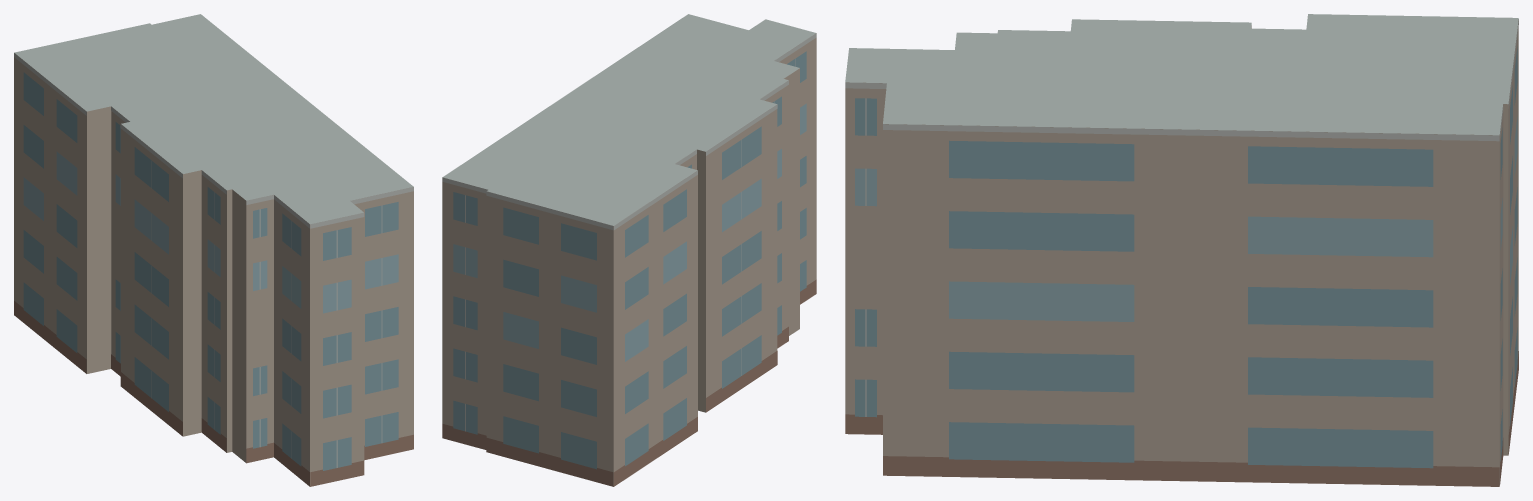
The model's file is survey-upis-32610491.glb.
3 renders of one model, left to right at view 1: azimuth 30°, elevation 25°; view 2: azimuth 150°, elevation 25°; view 3: azimuth 270°, elevation 25°, orthographic. The views are drawn at different scales.
Parts seen in each view (by area): view 1: survey-upis-32610491.tmp; view 2: survey-upis-32610491.tmp; view 3: survey-upis-32610491.tmp.
Part boxes in pixels (x1,y1,x2,y2): survey-upis-32610491.tmp: [14, 14, 413, 486]; survey-upis-32610491.tmp: [442, 14, 816, 486]; survey-upis-32610491.tmp: [845, 14, 1518, 486].
Size of the model in its own units: 10.66 by 14.4 by 25.01.
